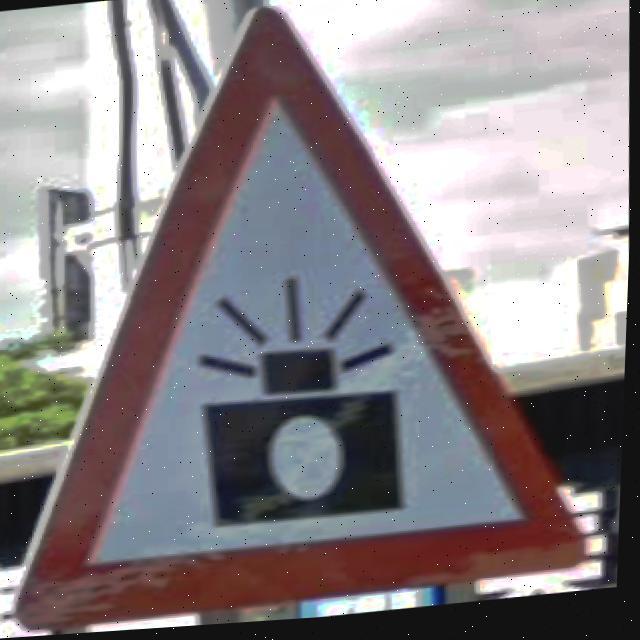speedcamera: (22, 12, 585, 629)
